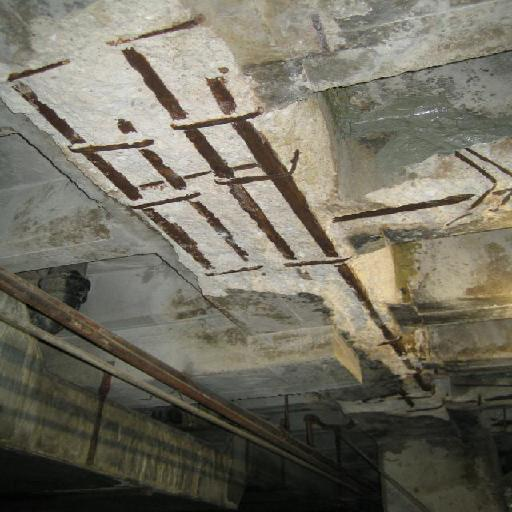exposed_rebar: (15, 82, 186, 200), (234, 121, 338, 257), (234, 122, 336, 257), (230, 184, 294, 259), (122, 47, 187, 119), (338, 263, 394, 340), (144, 208, 212, 269), (334, 194, 474, 223), (190, 201, 248, 261), (106, 15, 204, 46), (455, 152, 497, 209), (186, 129, 234, 176), (7, 60, 70, 82), (466, 148, 512, 176), (206, 78, 236, 115), (130, 194, 201, 209), (207, 79, 230, 114), (216, 175, 272, 186), (284, 258, 350, 267), (206, 266, 263, 276), (413, 371, 434, 393), (408, 404, 446, 412), (401, 388, 415, 408), (118, 120, 136, 134), (290, 149, 299, 175), (454, 384, 512, 388), (232, 163, 259, 171), (485, 393, 512, 401), (184, 172, 212, 179), (140, 182, 164, 190), (391, 340, 402, 356), (467, 395, 481, 406)
spalling: (0, 0, 512, 374)
